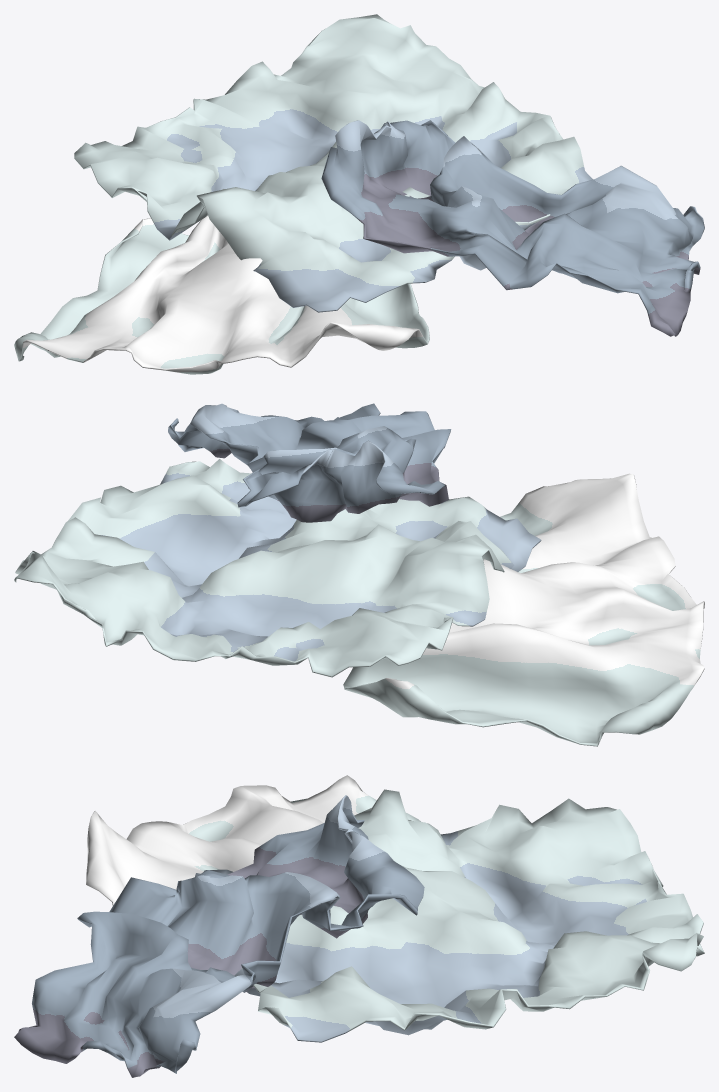
File: pañueloSucio.fbx
The picture shows the model from 3 angles, top to bottom: view 1: azimuth 30°, elevation 25°; view 2: azimuth 150°, elevation 25°; view 3: azimuth 270°, elevation 25°; orthographic projection. The views are drawn at different scales.
Parts seen in each view (by area): view 1: pañueloSucio; view 2: pañueloSucio; view 3: pañueloSucio.
Part boxes in pixels (x1,y1,x2,y2): pañueloSucio: [14, 14, 704, 374]; pañueloSucio: [14, 403, 704, 746]; pañueloSucio: [14, 775, 704, 1077].
Size of the model in its own units: 88.14 by 27.98 by 81.68.
